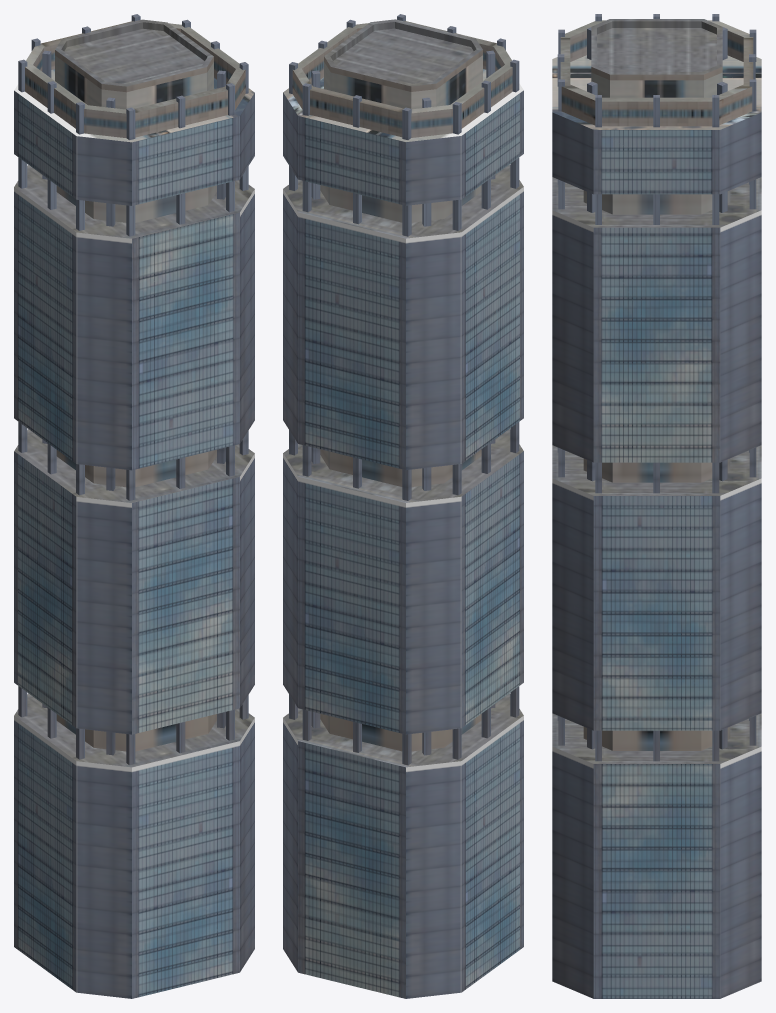
The picture shows the model from 3 angles, left to right: view 1: azimuth 30°, elevation 25°; view 2: azimuth 150°, elevation 25°; view 3: azimuth 270°, elevation 25°; orthographic projection.
Visible parts, largest first — view 1: 立方体.011; view 2: 立方体.011; view 3: 立方体.011.
Boxes of the visible parts, left/top/right/bottom form: 立方体.011: left=14, top=14, right=254, bottom=998; 立方体.011: left=283, top=14, right=523, bottom=998; 立方体.011: left=552, top=14, right=761, bottom=998.
Size of the model in its own units: 37.55 by 180 by 37.55.
1 material, 1 textured.
